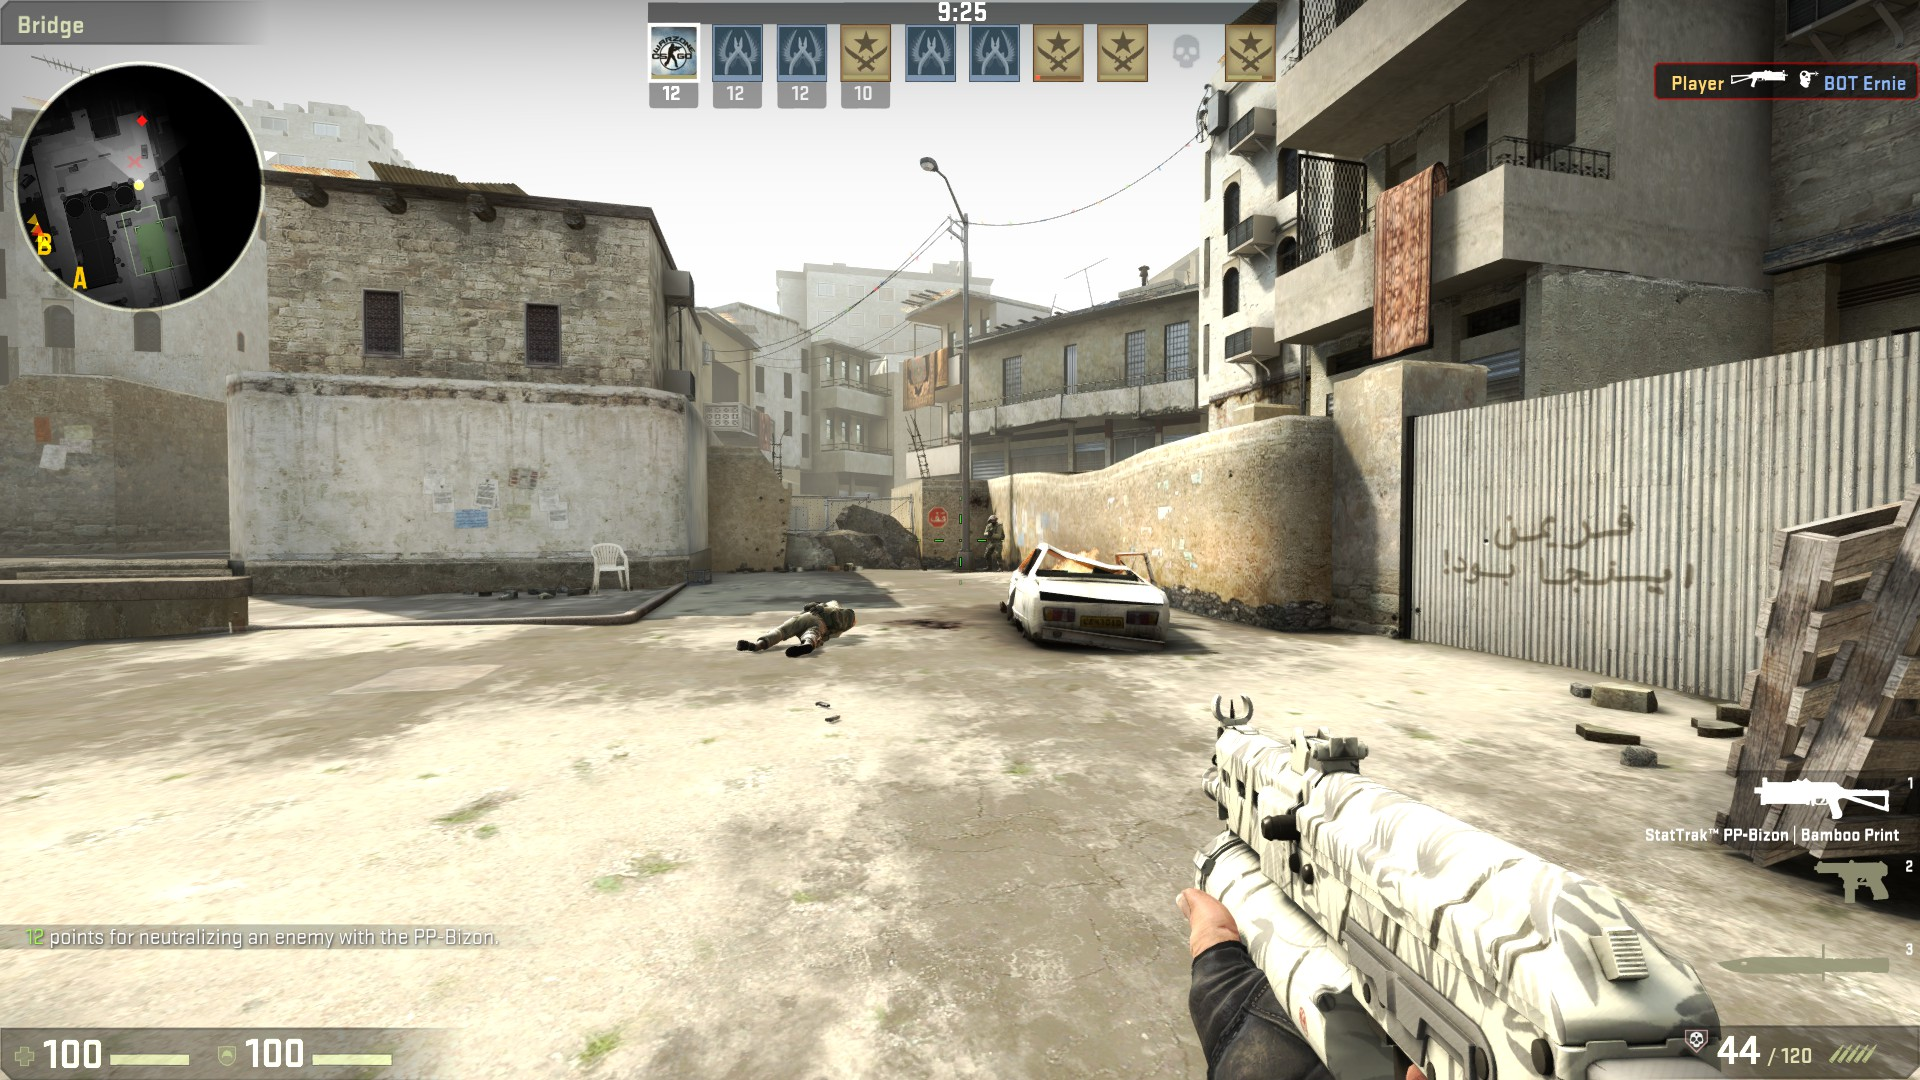c: (982, 514, 1004, 574)
ch: (988, 514, 1000, 527)
